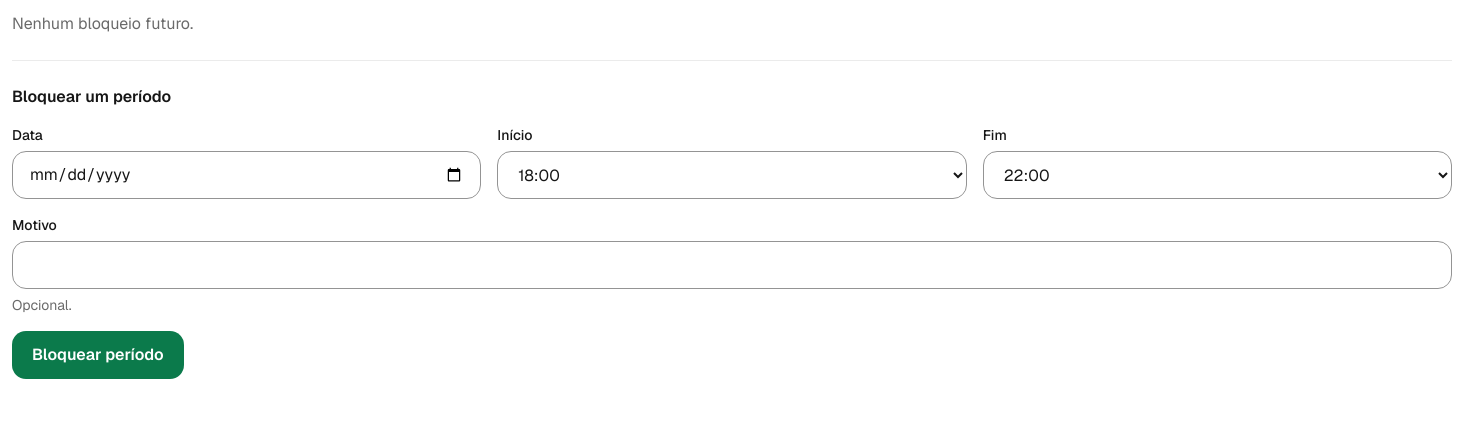
Test case: BlocksEditor › asks for the date
Click the button "Bloquear período" at (98, 355), box [12,331,184,379]
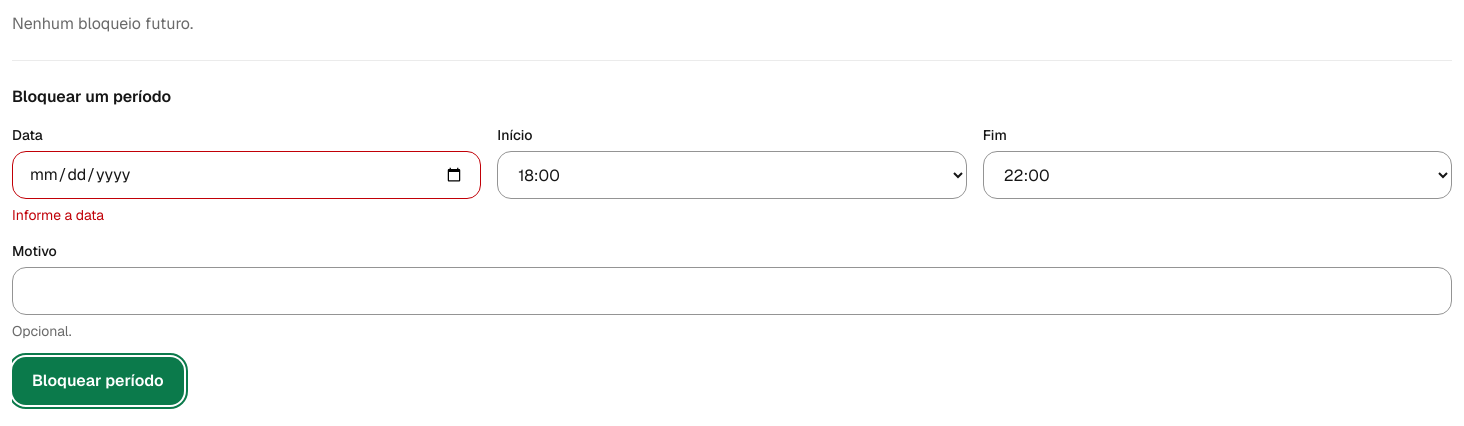
Expected: the text "Informe a data" is shown, [12,206,104,224]
